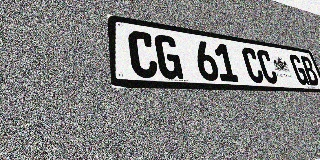1: (212, 42, 239, 82)
6: (193, 40, 221, 81)
B: (299, 56, 320, 86)
C: (127, 30, 159, 78), (240, 47, 265, 83), (255, 49, 279, 84)
G: (154, 34, 184, 79), (288, 54, 310, 85)
